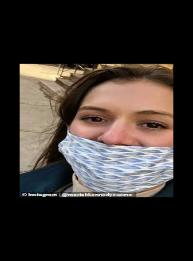mask_weared_incorrect: (67, 101, 173, 190)
